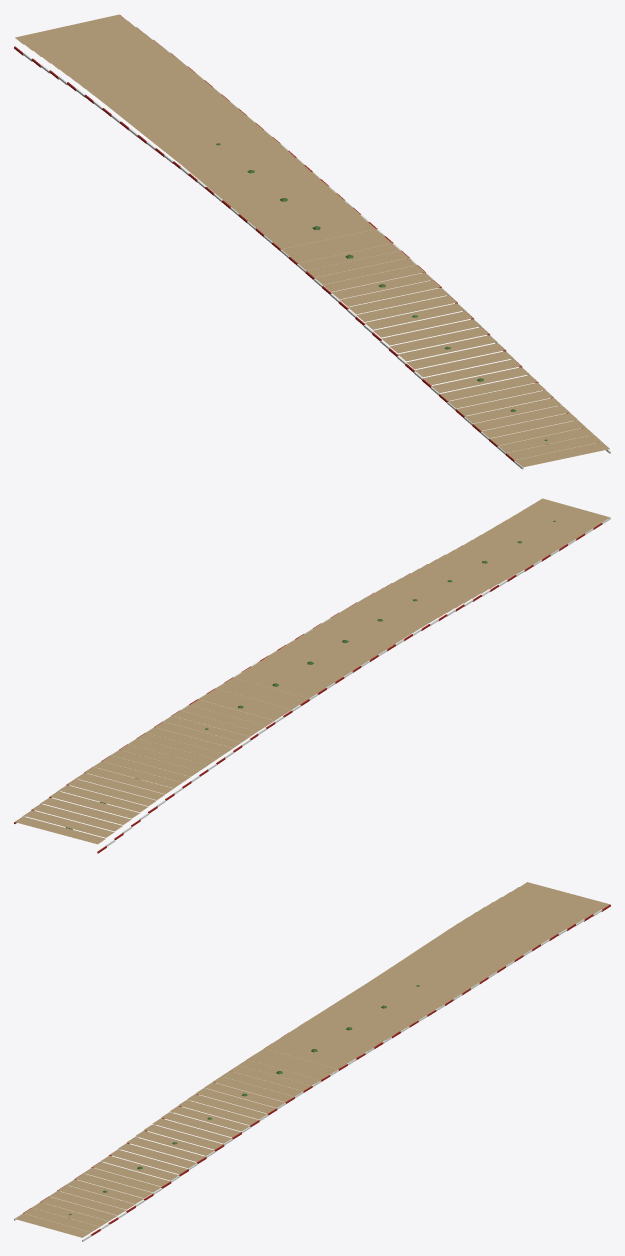
The model's file is pb_median_1.glb.
3 renders of one model, top to bottom at view 1: azimuth 30°, elevation 25°; view 2: azimuth 150°, elevation 25°; view 3: azimuth 330°, elevation 25°, orthographic. The views are drawn at different scales.
Parts seen in each view (by area): view 1: pb_median_1_lod0; view 2: pb_median_1_lod0; view 3: pb_median_1_lod0.
Boxes of the visible parts, x1,y1,x2,y2 form: pb_median_1_lod0: (14,14,610,469); pb_median_1_lod0: (14,498,610,853); pb_median_1_lod0: (14,882,610,1241).
Size of what is drawn, in the model's own units: 29.13 by 3.53 by 182.
